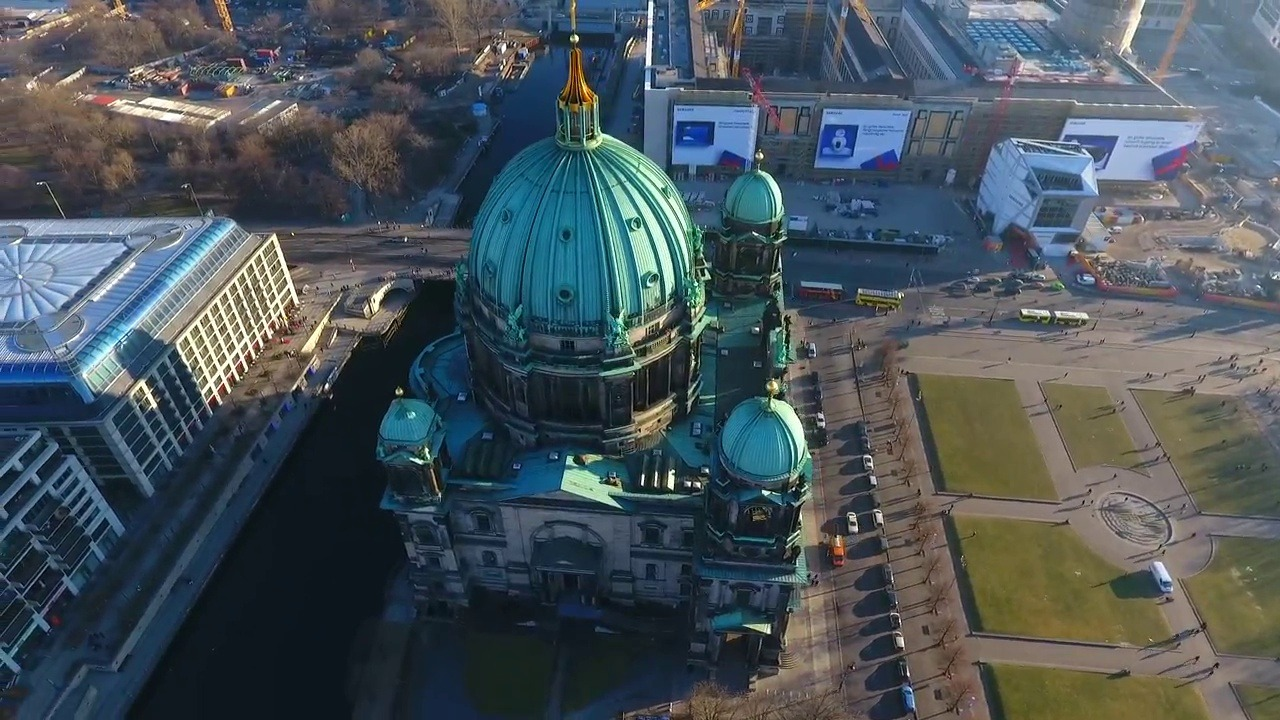bus: (852, 281, 907, 313), (794, 273, 845, 304), (1014, 299, 1054, 330), (1049, 306, 1092, 331)
van: (1146, 556, 1178, 598)
